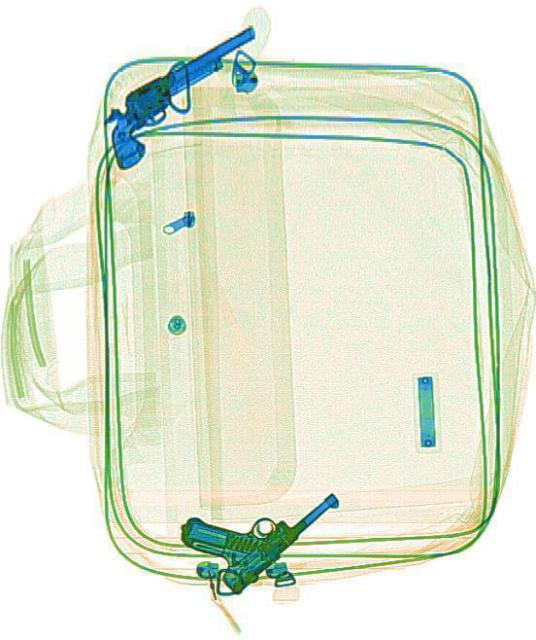Gun: (172, 431, 338, 603), (91, 20, 278, 172)
